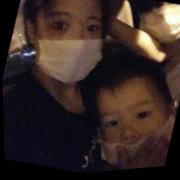OK: (24, 1, 116, 96), (131, 1, 180, 59)
WRONG: (85, 85, 173, 174)
